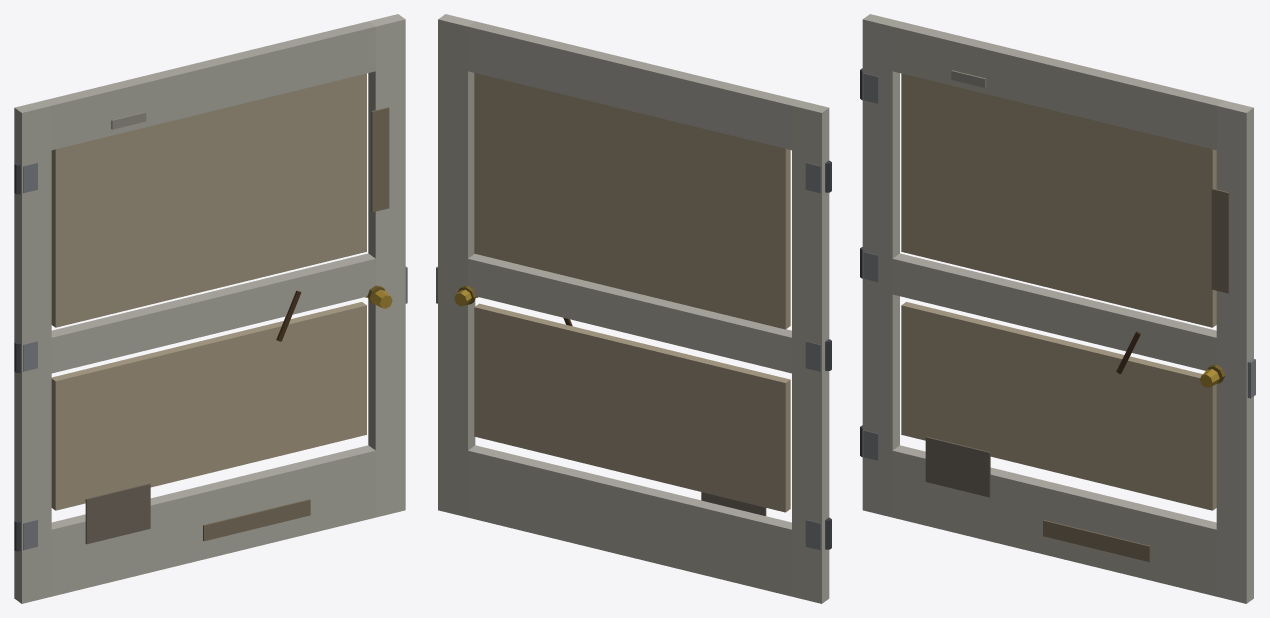
The model's file is bld_door_interior_wood.fbx.
3 views of the same model, side by side, from view 1: azimuth 30°, elevation 25°; view 2: azimuth 150°, elevation 25°; view 3: azimuth 330°, elevation 25° (orthographic).
Visible parts, largest first — view 1: bld_door_interior_wood; view 2: bld_door_interior_wood; view 3: bld_door_interior_wood.
Part boxes in pixels (box(x1,y1,x2,y2)): bld_door_interior_wood: box(14, 14, 407, 603); bld_door_interior_wood: box(436, 14, 831, 603); bld_door_interior_wood: box(860, 14, 1255, 603).
Bounding box in the file's own units: 1.83 × 2.2 × 0.205.
